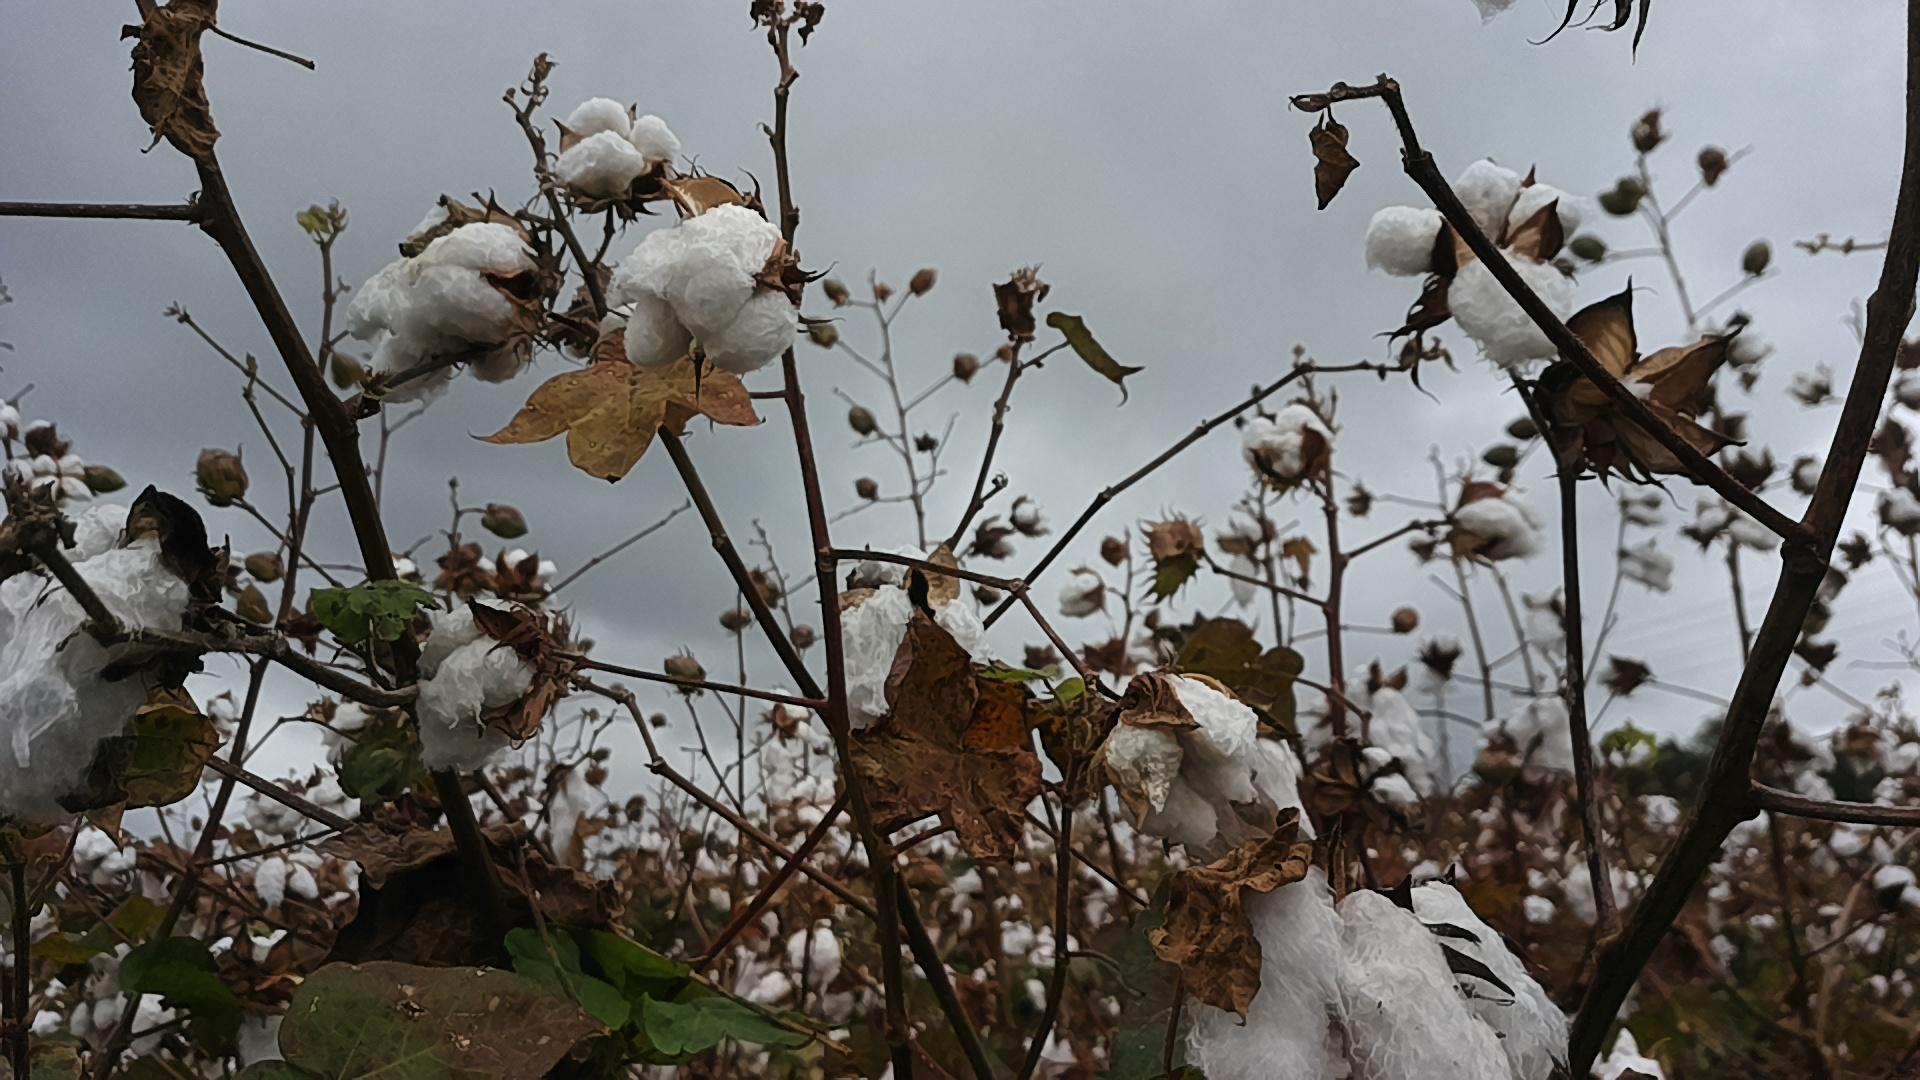cotton_ready: (1185, 865, 1573, 1080), (1360, 158, 1573, 359), (349, 223, 538, 405), (605, 206, 798, 369), (0, 578, 131, 815), (414, 596, 575, 773), (1100, 673, 1261, 845), (47, 505, 198, 645), (845, 580, 988, 719), (554, 98, 670, 203), (1220, 742, 1323, 855), (1366, 699, 1437, 811), (1456, 483, 1538, 564)
